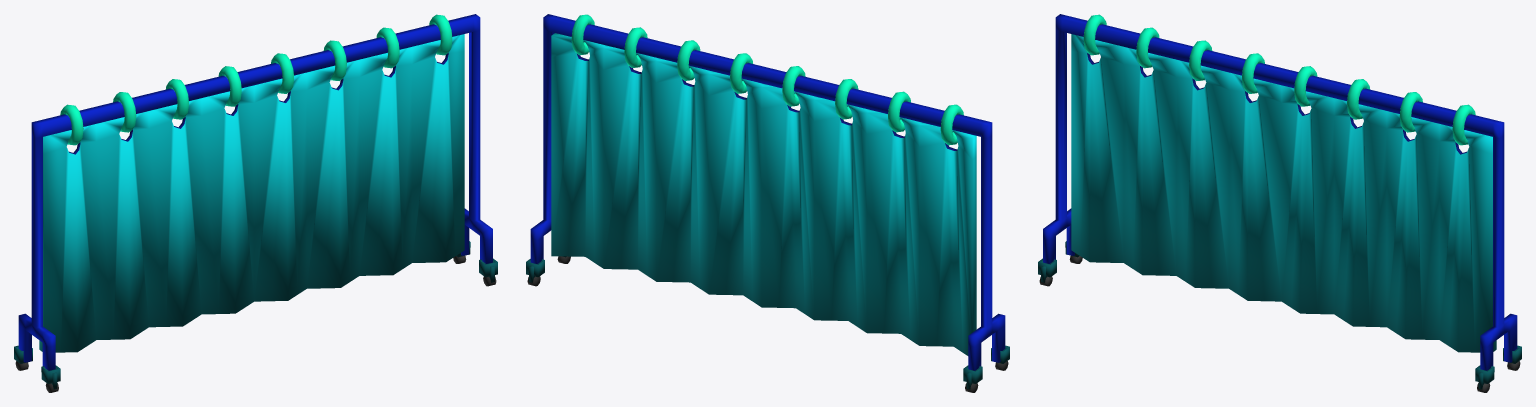
Rendered from CortinaHospitalar.fbx.
3 views of the same model, side by side, from view 1: azimuth 30°, elevation 25°; view 2: azimuth 150°, elevation 25°; view 3: azimuth 330°, elevation 25° (orthographic).
Parts seen in each view (by area): view 1: CortinaHospitalar; view 2: CortinaHospitalar; view 3: CortinaHospitalar.
Boxes of the visible parts, left/top/right/bottom form: CortinaHospitalar: left=14, top=14, right=497, bottom=392; CortinaHospitalar: left=526, top=14, right=1009, bottom=392; CortinaHospitalar: left=1038, top=14, right=1521, bottom=392.
Size of the model in its own units: 247 by 141 by 34.91.
1 material, 1 textured.
